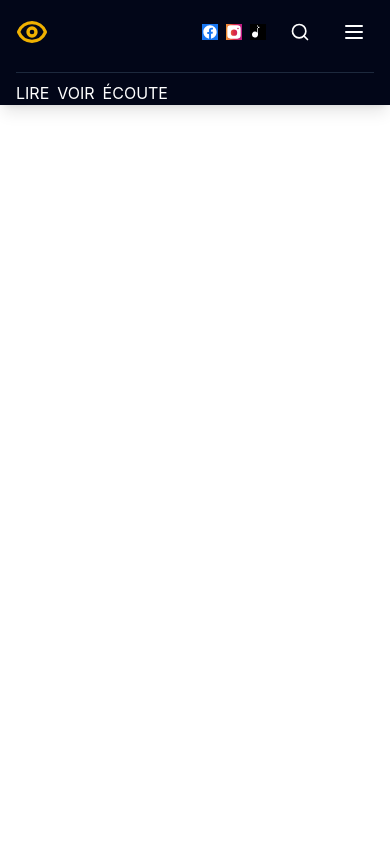
Test case: Header › toggles mobile menu aria-expanded
Click the button named "Ouvrir le menu mobile" at {"x": 354, "y": 32}, box [334,12,374,52]
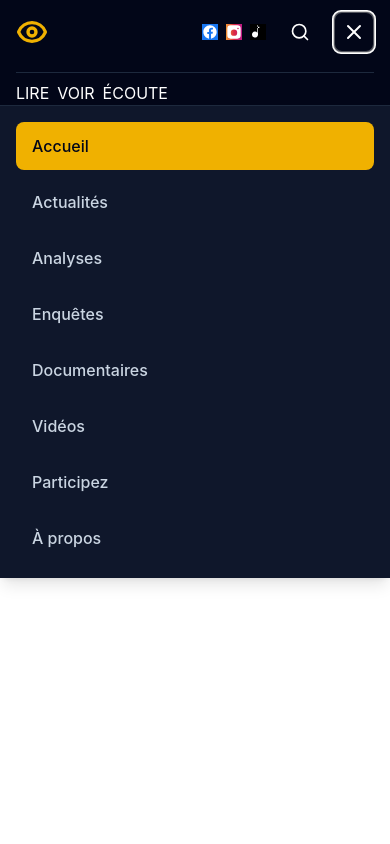
Now the button named "Ouvrir le menu mobile" is expanded, box [334,12,374,52]
